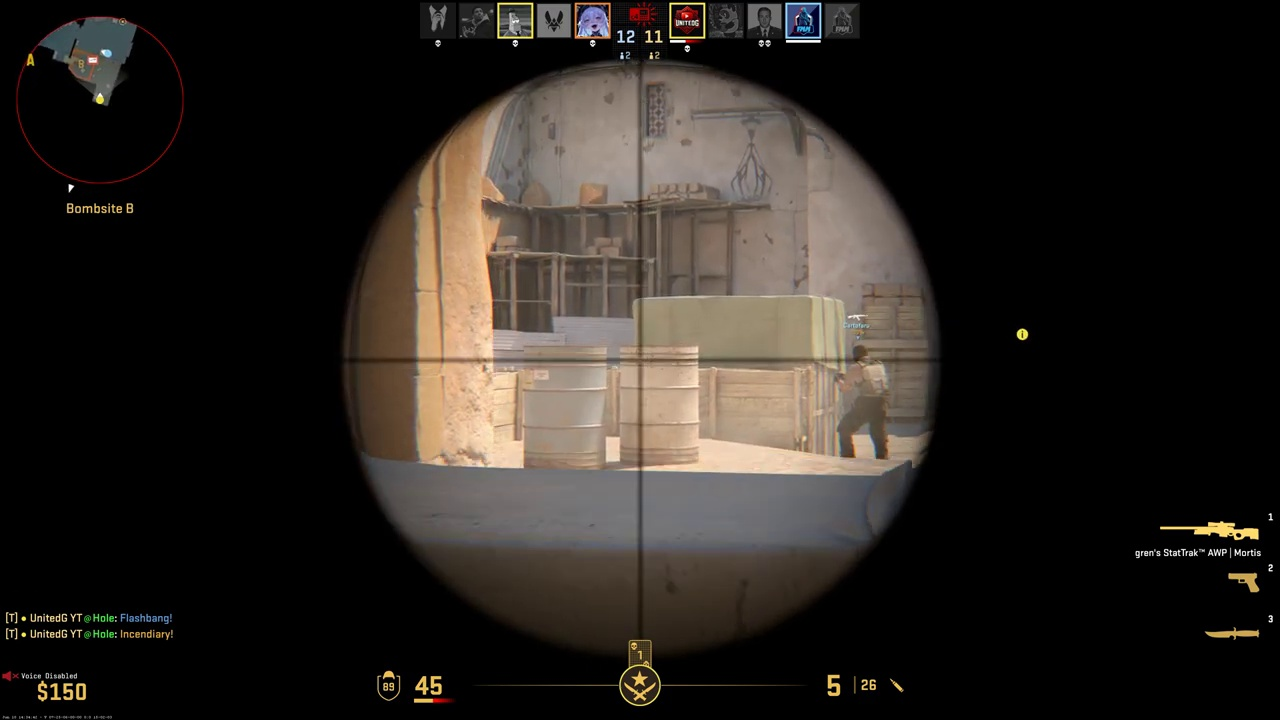Terrorist: (834, 345, 890, 459)
